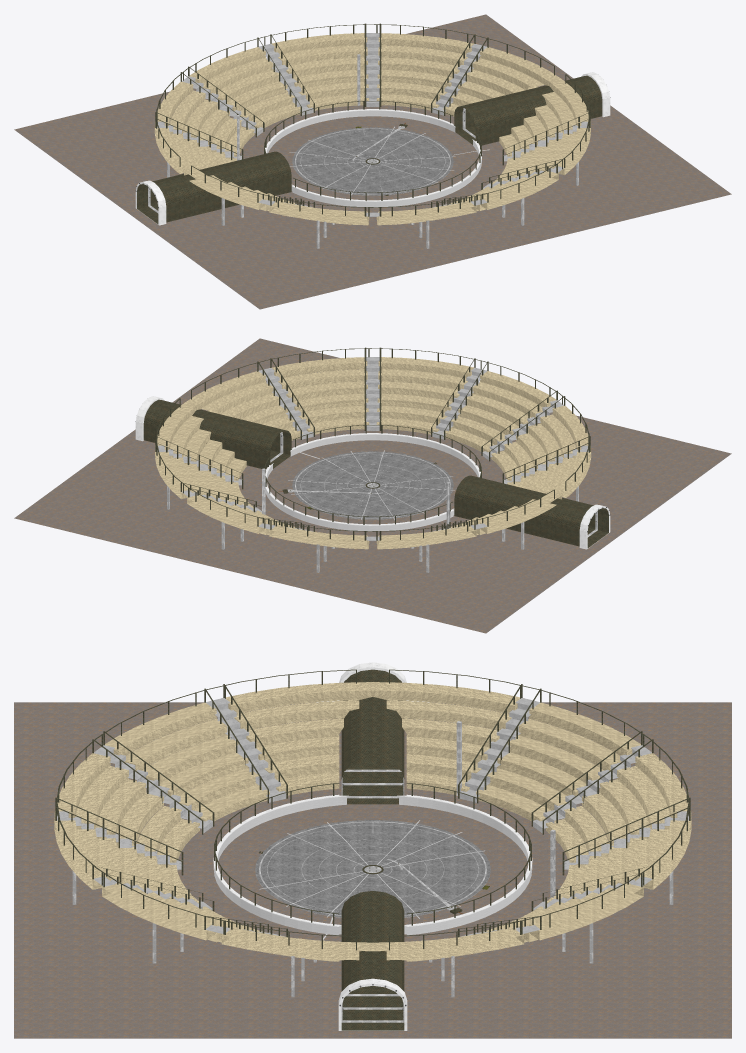
File: arena.glb
3 views of the same model, one above another, from view 1: azimuth 30°, elevation 25°; view 2: azimuth 150°, elevation 25°; view 3: azimuth 270°, elevation 25° (orthographic). The views are drawn at different scales.
Visible parts, largest first — view 1: Floor_Ground, HDD_PlatterTop, Tunnel_L, Tunnel_R, Arena_Barrier, Bleacher_T05_S04_M, Bleacher_T05_S03_M, Bleacher_T05_S02, Bleacher_T05_S01, Bleacher_T04_S01, Bleacher_T05_S00, Bleacher_T05_S02_M (+38 smaller); view 2: Floor_Ground, HDD_PlatterTop, Tunnel_L, Tunnel_R, Arena_Barrier, Bleacher_T05_S04, Bleacher_T05_S03, Bleacher_T05_S02_M, Bleacher_T05_S01_M, Bleacher_T04_S01_M, Bleacher_T05_S00_M, Bleacher_T05_S02 (+38 smaller); view 3: Floor_Ground, HDD_PlatterTop, Tunnel_R, Tunnel_L, Arena_Barrier, Bleacher_T05_S00, Bleacher_T05_S00_M, Bleacher_T05_S05, Bleacher_T05_S05_M, Bleacher_T05_S01, Bleacher_T05_S01_M, Bleacher_T05_S04 (+55 smaller).
Boxes of the visible parts, left/top/right/bottom form: Floor_Ground: left=14, top=14, right=731, bottom=309; HDD_PlatterTop: left=292, top=127, right=453, bottom=195; Tunnel_L: left=135, top=151, right=291, bottom=225; Tunnel_R: left=454, top=72, right=610, bottom=145; Arena_Barrier: left=266, top=110, right=481, bottom=207; Bleacher_T05_S04_M: left=269, top=201, right=367, bottom=223; Bleacher_T05_S03_M: left=378, top=201, right=476, bottom=223; Bleacher_T05_S02: left=271, top=33, right=367, bottom=54; Bleacher_T05_S01: left=378, top=33, right=474, bottom=54; Bleacher_T04_S01: left=378, top=45, right=467, bottom=65; Bleacher_T05_S00: left=480, top=47, right=561, bottom=86; Bleacher_T05_S02_M: left=480, top=171, right=558, bottom=209; Floor_Ground: left=14, top=338, right=731, bottom=633; HDD_PlatterTop: left=292, top=451, right=453, bottom=519; Tunnel_L: left=454, top=475, right=610, bottom=549; Tunnel_R: left=135, top=396, right=291, bottom=469; Arena_Barrier: left=265, top=434, right=479, bottom=531; Bleacher_T05_S04: left=378, top=525, right=476, bottom=547; Bleacher_T05_S03: left=269, top=525, right=367, bottom=547; Bleacher_T05_S02_M: left=378, top=357, right=474, bottom=378; Bleacher_T05_S01_M: left=271, top=357, right=367, bottom=378; Bleacher_T04_S01_M: left=278, top=369, right=367, bottom=389; Bleacher_T05_S00_M: left=184, top=371, right=265, bottom=410; Bleacher_T05_S02: left=187, top=495, right=265, bottom=533; Floor_Ground: left=14, top=702, right=731, bottom=1038; HDD_PlatterTop: left=255, top=820, right=490, bottom=917; Tunnel_R: left=338, top=891, right=407, bottom=1030; Tunnel_L: left=339, top=662, right=406, bottom=804; Arena_Barrier: left=213, top=796, right=532, bottom=935; Bleacher_T05_S00: left=373, top=928, right=524, bottom=960; Bleacher_T05_S00_M: left=221, top=928, right=372, bottom=960; Bleacher_T05_S05: left=373, top=682, right=519, bottom=713; Bleacher_T05_S05_M: left=226, top=682, right=372, bottom=713; Bleacher_T05_S01: left=529, top=883, right=643, bottom=940; Bleacher_T05_S01_M: left=102, top=883, right=216, bottom=940; Bleacher_T05_S04: left=529, top=702, right=640, bottom=755.
Size of the model in its own units: 51 by 5.33 by 46.
Materials: 14 (13 with a texture image).
